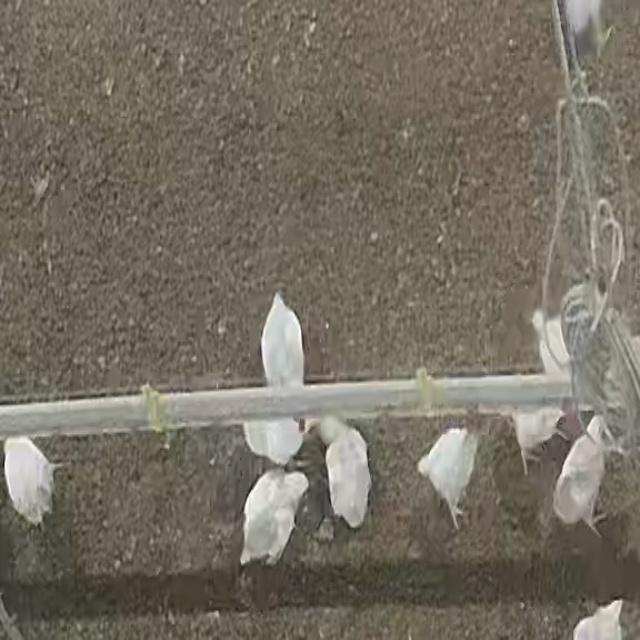chicken: (236, 466, 310, 568), (416, 424, 481, 532), (315, 413, 371, 530), (551, 420, 608, 534), (264, 293, 308, 407), (4, 429, 52, 531), (247, 395, 310, 466), (508, 407, 566, 478), (529, 308, 572, 380), (570, 600, 624, 640)
